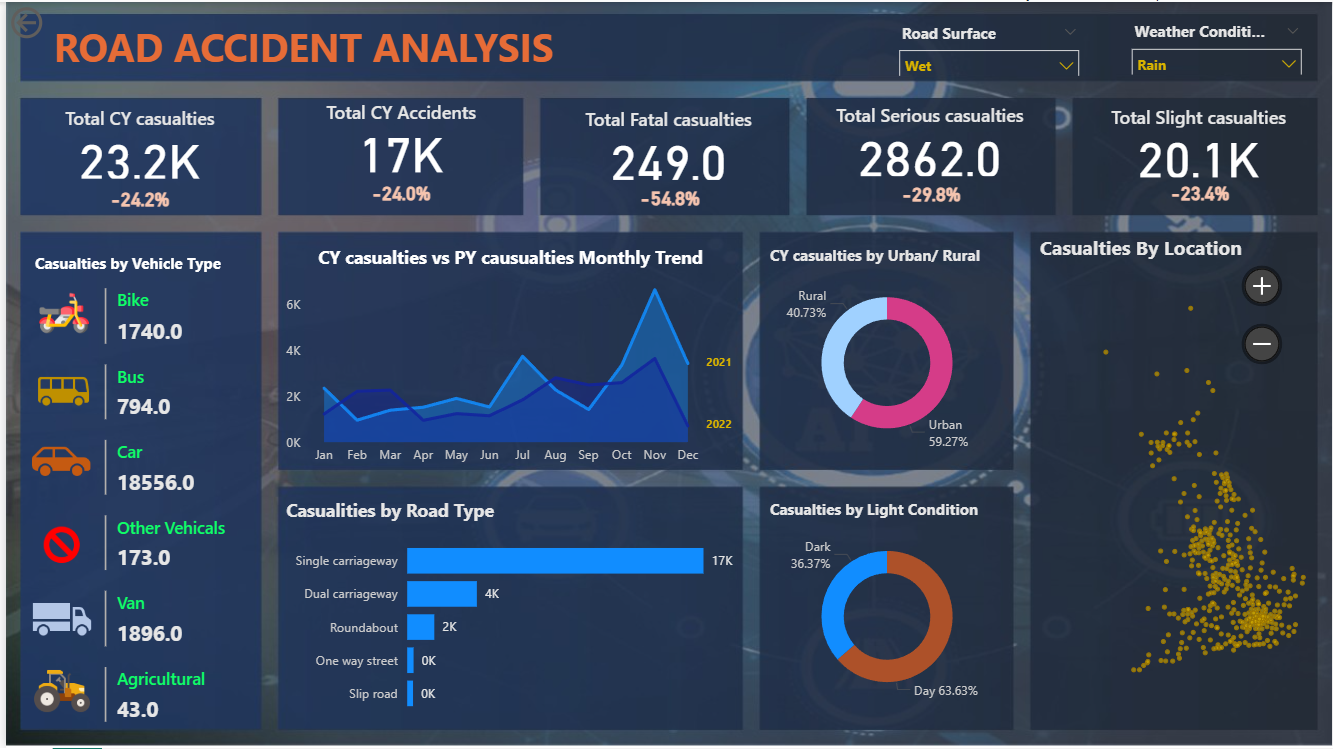

The dashboard page shown, as its layout file describes it:
{"tool":"powerbi","page":{"name":"Page 1","canvas":[1280,720],"ordinal":0},"visuals":[{"type":"actionButton","box":[0,0,100,40],"z":0},{"type":"card","title":"Total CY Accidents","fields":{"Values":["Data.CY accident"]},"box":[264.8,94.7,231.9,75.5],"z":0,"group":"g2"},{"type":"card","title":"Total Serious casualties","fields":{"Values":["Data.curryear_casualities"]},"box":[775.3,97.4,231.9,75.5],"z":0,"group":"g4"},{"type":"card","title":"Total Slight casualties","fields":{"Values":["Data.curryear_casualities"]},"box":[1034.7,98.8,231.9,75.5],"z":0,"group":"g5"},{"type":"card","title":"Total CY casualties","fields":{"Values":["Data.curryear_casualities"]},"box":[13.7,100.2,231.9,75.5],"z":0,"group":"g1"},{"type":"card","title":"Total Fatal casualties","fields":{"Values":["Data.curryear_casualities"]},"box":[524.2,101.5,231.9,75.5],"z":0,"group":"g3"},{"type":"group","id":"g1","title":"Group 1","box":[13.7,100.2,231.9,105.7],"z":1000},{"type":"card","fields":{"Values":["Data.YoY casualties"]},"box":[1110,169.5,85.1,30.2],"z":1000,"group":"g5"},{"type":"card","fields":{"Values":["Data.yoy growth accident"]},"box":[338.9,170.2,85.1,30.2],"z":1000,"group":"g2"},{"type":"card","fields":{"Values":["Data.YoY casualties"]},"box":[850.5,171.1,85.1,30.2],"z":1000,"group":"g4"},{"type":"card","fields":{"Values":["Data.YoY casualties"]},"box":[599.4,175.2,85.1,30.2],"z":1000,"group":"g3"},{"type":"card","fields":{"Values":["Data.YoY casualties"]},"box":[87.8,175.7,85.1,30.2],"z":1000,"group":"g1"},{"type":"group","id":"g2","title":"Group 1","box":[264.8,94.7,231.9,105.7],"z":2000},{"type":"group","id":"g3","title":"Group 1","box":[524.2,101.5,231.9,103.9],"z":3000},{"type":"group","id":"g4","title":"Group 1","box":[775.3,97.4,231.9,104.3],"z":4000},{"type":"group","id":"g5","title":"Group 1","box":[1034.7,98.8,231.9,101.5],"z":5000},{"type":"textbox","box":[20.6,13.7,547.5,50.8],"z":6000},{"type":"textbox","box":[41.2,13.7,618.9,65.9],"z":7000},{"type":"multiRowCard","fields":{"Values":["Data.Vehicle_Type (groups)","Data.curryear_casualities"]},"box":[90.6,271.7,157.8,448.7],"z":8000},{"type":"image","box":[22,271.7,68.6,57.6],"z":9000},{"type":"image","box":[9.6,407.5,87.8,71.4],"z":10000},{"type":"image","box":[9.6,344.4,91.9,63.1],"z":11000},{"type":"image","box":[23.3,496.7,61.7,53.5],"z":12000},{"type":"image","box":[12.3,559.9,83.7,71.4],"z":13000},{"type":"image","box":[13.7,631.2,81,67.2],"z":14000},{"type":"textbox","box":[23.3,236,204.5,35.7],"z":15000},{"type":"areaChart","title":"CY casualties vs PY causualties Monthly Trend","fields":{"Category":["calender.month"],"Y":["Sum(Data.Number_of_Casualties)"],"Series":["calender.Date.Variation.Date Hierarchy.Year"]},"box":[264.8,234.6,443.2,220.9],"z":16000},{"type":"donutChart","title":"CY casualties by Urban/ Rural","fields":{"Category":["Data.Urban_or_Rural_Area"],"Y":["Data.curryear_casualities"]},"box":[732.3,234,236.5,208.7],"z":17000},{"type":"donutChart","title":"Casualties by Light Condition","fields":{"Y":["Data.curryear_casualities"],"Category":["Data.Light_Conditions (groups)"]},"box":[732.3,479,236.5,208.7],"z":18000},{"type":"barChart","title":"Casualities by Road Type","fields":{"Category":["Data.Road_Type"],"Y":["Data.curryear_casualities"]},"box":[265.4,479,442.8,219.6],"z":19000},{"type":"map","fields":{"X":["Data.Longitude"],"Y":["Data.Latitude"],"Category":["Data.Local_Authority_(District)"]},"box":[992.9,234,273.9,457.2],"z":20000}]}

Visuals, with their boxes in screenshot pixels (x1, y1, x2, y2), scaled from the page's 1280x720 canvas onto the 1333x749 screenshot:
actionButton: x1=0 y1=0 x2=104 y2=42
"Total CY Accidents" card: x1=276 y1=99 x2=517 y2=177
"Total Serious casualties" card: x1=807 y1=101 x2=1049 y2=180
"Total Slight casualties" card: x1=1078 y1=103 x2=1319 y2=181
"Total CY casualties" card: x1=14 y1=104 x2=256 y2=183
"Total Fatal casualties" card: x1=546 y1=106 x2=787 y2=184
"Group 1" group: x1=14 y1=104 x2=256 y2=214
card - Data.YoY casualties: x1=1156 y1=176 x2=1245 y2=208
card - Data.yoy growth accident: x1=353 y1=177 x2=442 y2=208
card - Data.YoY casualties: x1=886 y1=178 x2=974 y2=209
card - Data.YoY casualties: x1=624 y1=182 x2=713 y2=214
card - Data.YoY casualties: x1=91 y1=183 x2=180 y2=214
"Group 1" group: x1=276 y1=99 x2=517 y2=208
"Group 1" group: x1=546 y1=106 x2=787 y2=214
"Group 1" group: x1=807 y1=101 x2=1049 y2=210
"Group 1" group: x1=1078 y1=103 x2=1319 y2=208
textbox: x1=21 y1=14 x2=592 y2=67
textbox: x1=43 y1=14 x2=687 y2=83
multiRowCard - Data.Vehicle_Type (groups) x Data.curryear_casualities: x1=94 y1=283 x2=259 y2=748
image: x1=23 y1=283 x2=94 y2=343
image: x1=10 y1=424 x2=101 y2=498
image: x1=10 y1=358 x2=106 y2=424
image: x1=24 y1=517 x2=89 y2=572
image: x1=13 y1=582 x2=100 y2=657
image: x1=14 y1=657 x2=99 y2=727
textbox: x1=24 y1=246 x2=237 y2=283
"CY casualties vs PY causualties Monthly Trend" areaChart: x1=276 y1=244 x2=737 y2=474
"CY casualties by Urban/ Rural" donutChart: x1=763 y1=243 x2=1009 y2=461
"Casualties by Light Condition" donutChart: x1=763 y1=498 x2=1009 y2=715
"Casualities by Road Type" barChart: x1=276 y1=498 x2=738 y2=727
map - Data.Longitude x Data.Latitude: x1=1034 y1=243 x2=1319 y2=719
